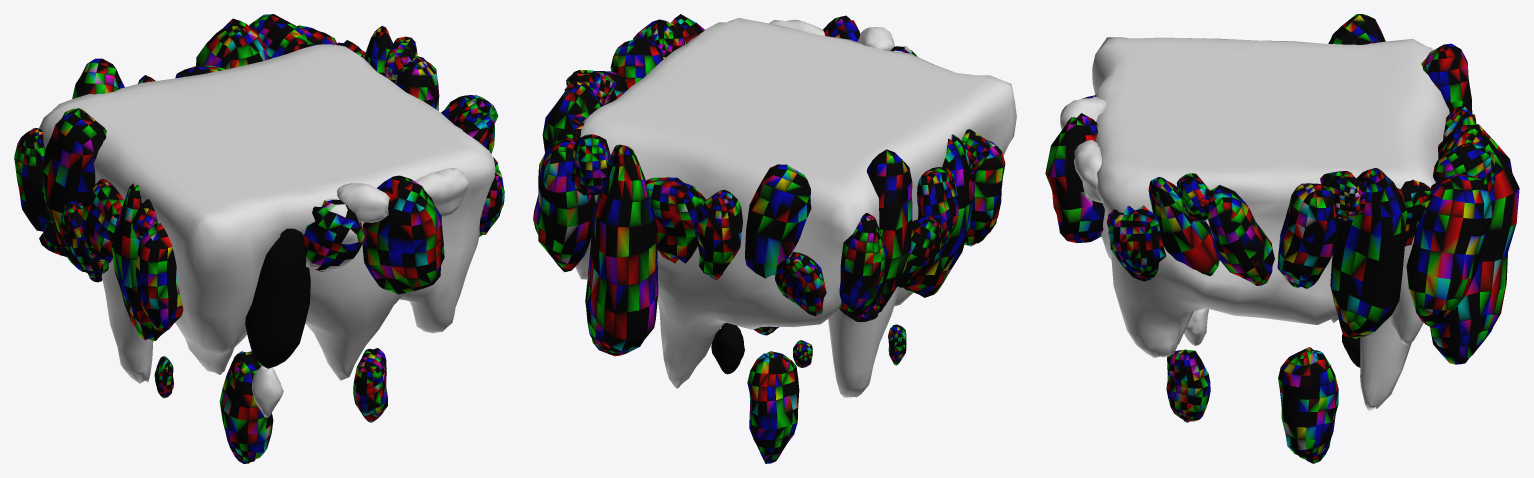
The model's file is island low.fbx.
3 renders of one model, left to right at view 1: azimuth 30°, elevation 25°; view 2: azimuth 150°, elevation 25°; view 3: azimuth 270°, elevation 25°, orthographic. The views are drawn at different scales.
Visible parts, largest first — view 1: island_low; view 2: island_low; view 3: island_low.
Part boxes in pixels (box(x1,y1,x2,y2)): island_low: box(14, 14, 504, 463); island_low: box(533, 14, 1016, 463); island_low: box(1045, 14, 1519, 463).
Size of the model in its own units: 261 by 247 by 280.
